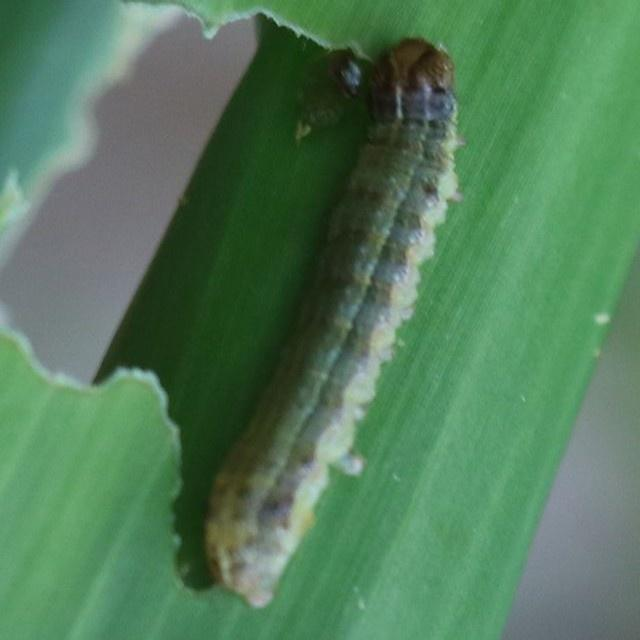gusano_cogollero: (195, 36, 460, 604)
